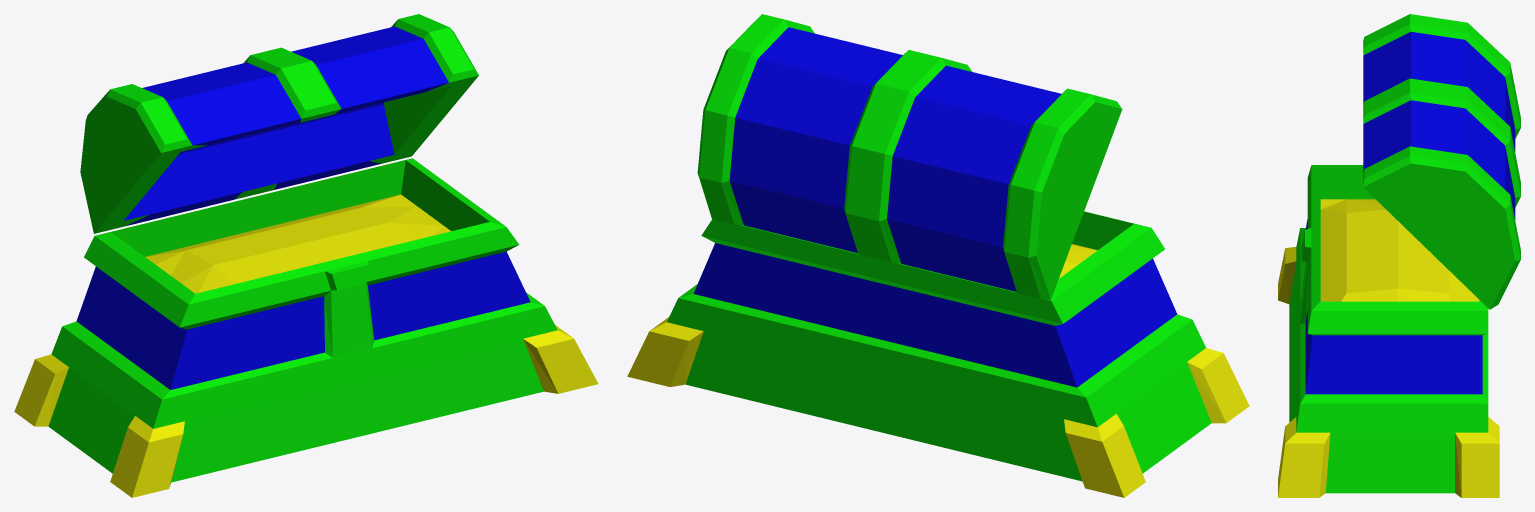
Rendered from Mesh_Chest.fbx.
3 views of the same model, side by side, from view 1: azimuth 30°, elevation 25°; view 2: azimuth 150°, elevation 25°; view 3: azimuth 270°, elevation 25° (orthographic). The views are drawn at different scales.
Visible parts, largest first — view 1: Mesh_Chest; view 2: Mesh_Chest; view 3: Mesh_Chest.
Part boxes in pixels (x1,y1,x2,y2): Mesh_Chest: (14, 14, 598, 497); Mesh_Chest: (627, 14, 1249, 497); Mesh_Chest: (1278, 14, 1520, 497).
Size of the model in its own units: 193 by 128 by 92.36.
